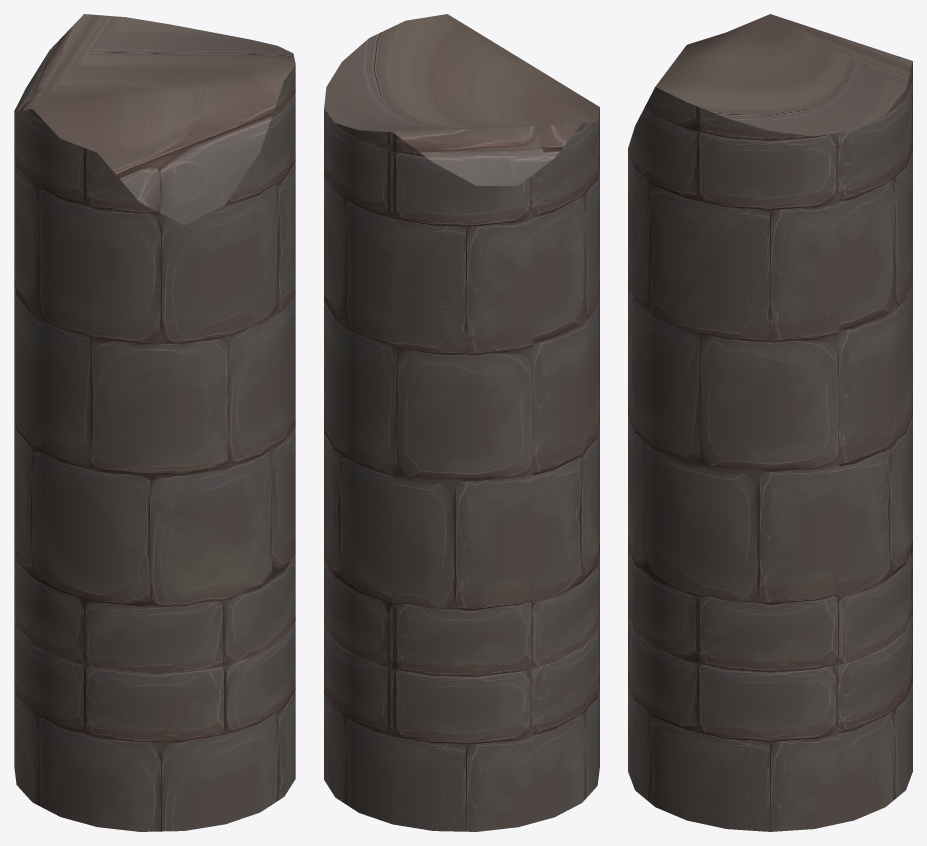
The model's file is PillarDamaged4_1.fbx.
The picture shows the model from 3 angles, left to right: view 1: azimuth 30°, elevation 25°; view 2: azimuth 150°, elevation 25°; view 3: azimuth 270°, elevation 25°; orthographic projection. The views are drawn at different scales.
Visible parts, largest first — view 1: polySurface203; view 2: polySurface203; view 3: polySurface203.
Boxes of the visible parts, box(x1,y1,x2,y2) form: polySurface203: box(14, 14, 295, 831); polySurface203: box(324, 14, 599, 831); polySurface203: box(628, 14, 912, 831).
Bounding box in the file's own units: 22.73 × 63.43 × 22.73.
